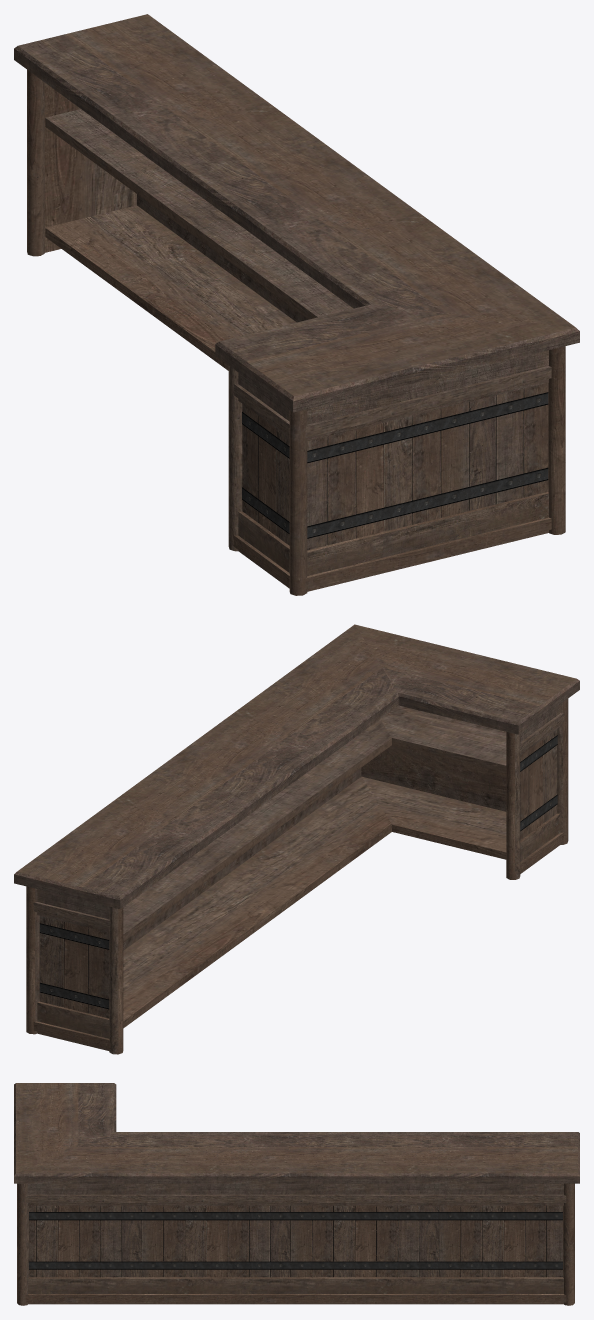
File: mw_bar_01_02.FBX
3 renders of one model, top to bottom at view 1: azimuth 30°, elevation 25°; view 2: azimuth 150°, elevation 25°; view 3: azimuth 270°, elevation 25°, orthographic. The views are drawn at different scales.
Parts seen in each view (by area): view 1: mw_bar_01_02; view 2: mw_bar_01_02; view 3: mw_bar_01_02.
Boxes of the visible parts, x1,y1,x2,y2 form: mw_bar_01_02: (14, 14, 579, 595); mw_bar_01_02: (14, 624, 579, 1054); mw_bar_01_02: (14, 1083, 579, 1305).
Bounding box in the file's own units: 179 × 122 × 465.
